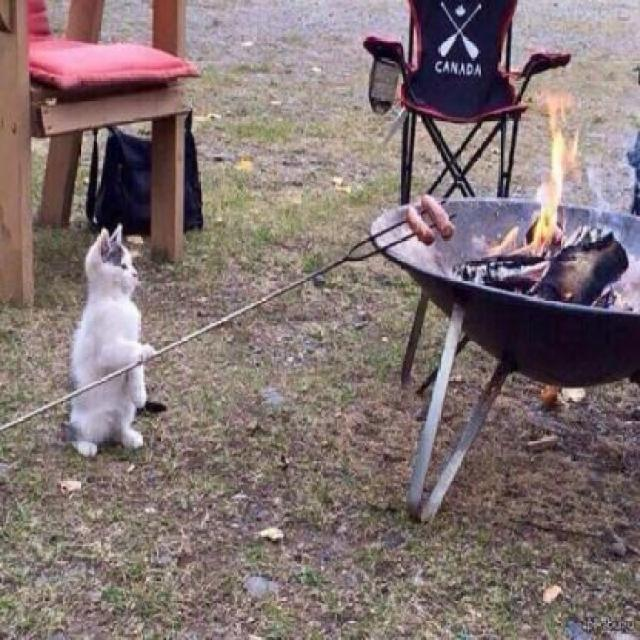cat: (64, 217, 159, 468)
